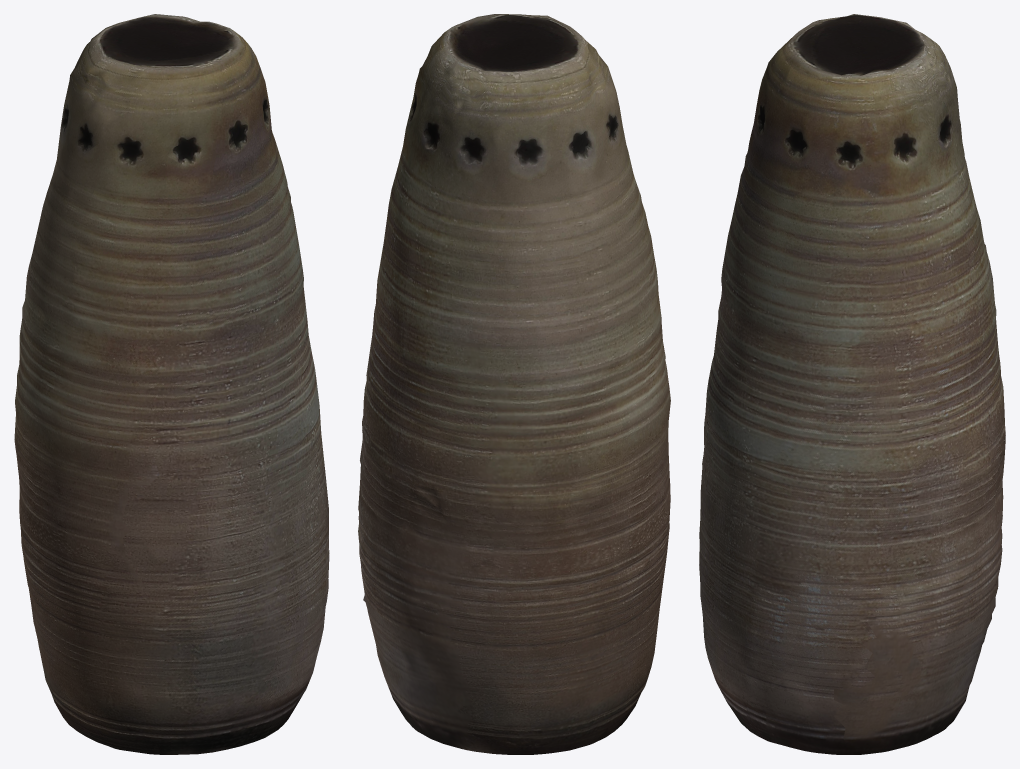
The picture shows the model from 3 angles, left to right: view 1: azimuth 30°, elevation 25°; view 2: azimuth 150°, elevation 25°; view 3: azimuth 270°, elevation 25°; orthographic projection.
Parts seen in each view (by area): view 1: Ed; view 2: Ed; view 3: Ed.
Part boxes in pixels (box(x1,y1,x2,y2)): Ed: box(14, 14, 329, 754); Ed: box(358, 14, 670, 754); Ed: box(699, 14, 1005, 754).
Size of the model in its own units: 1.51 by 3.54 by 1.48.
Materials: 1 (1 with a texture image).
